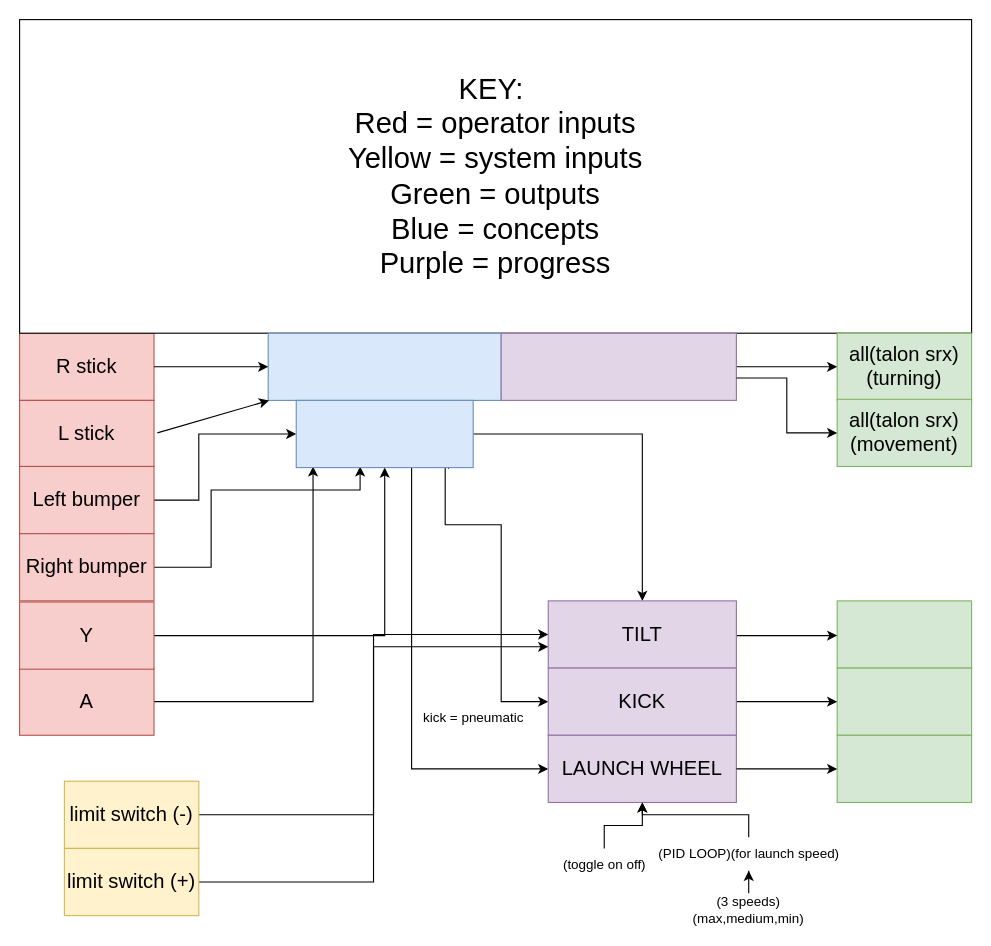
This 991x946 diagram has some shape labels left out. Here are the shapes that lost their labels. From the top down, the box of each, then its label:
(267, 332, 501, 400): DRIVE
(500, 332, 736, 400): TRAIN
(295, 399, 473, 468): LAUNCHER
(836, 600, 972, 668): victor SPX
(836, 667, 972, 735): solonoid
(836, 734, 972, 802): talon
